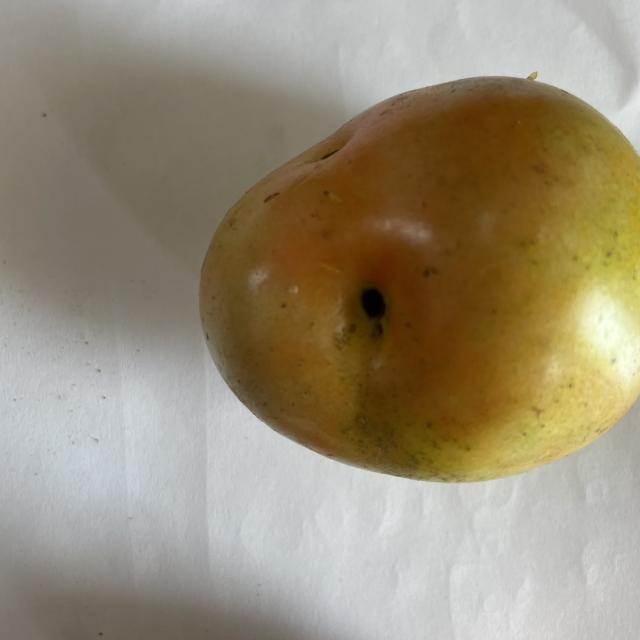fruitworm_bore: (352, 279, 397, 331)
